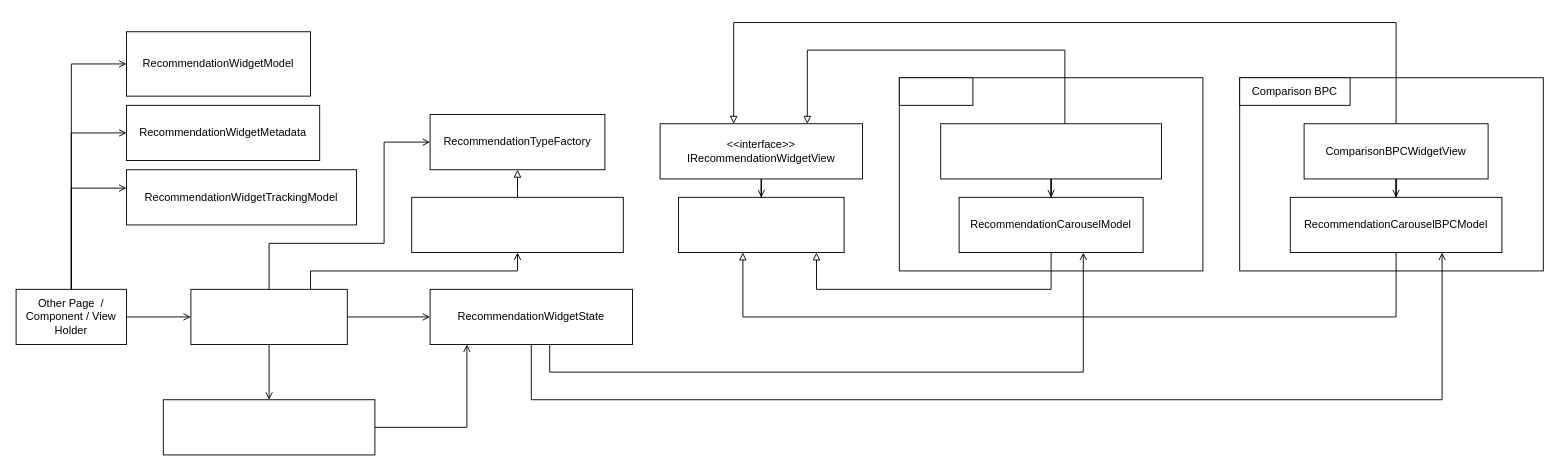
Some shapes in this 1559 by 471 pixel diagram are drawn without their labels. Each missing label, with the centre of its shape:
"<<interface>> RecommendationVisitable" belongs at pixel 761 224.
"Carousel" belongs at pixel 935 91.
"RecommendationCarouselWidgetView" belongs at pixel 1051 151.
"RecommendationTypeFactoryImpl" belongs at pixel 517 224.
"RecommendationWidgetView" belongs at pixel 268 316.
"RecommendationWidgetViewModel" belongs at pixel 268 427.
